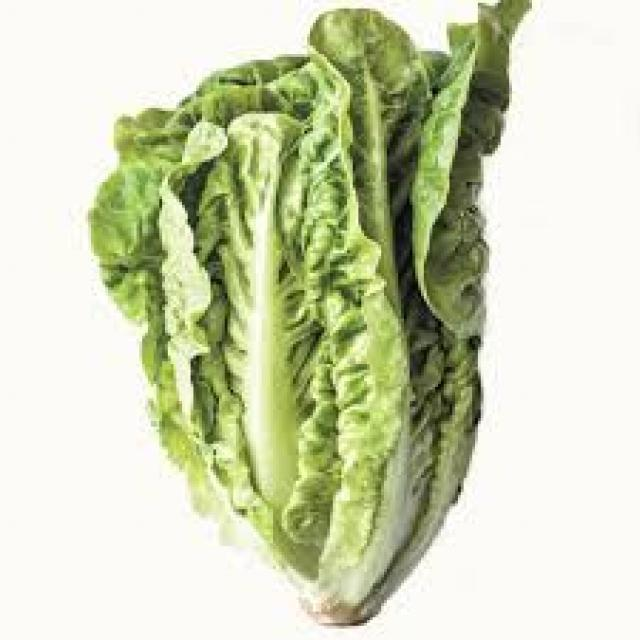Lettuce: (93, 5, 510, 632)
